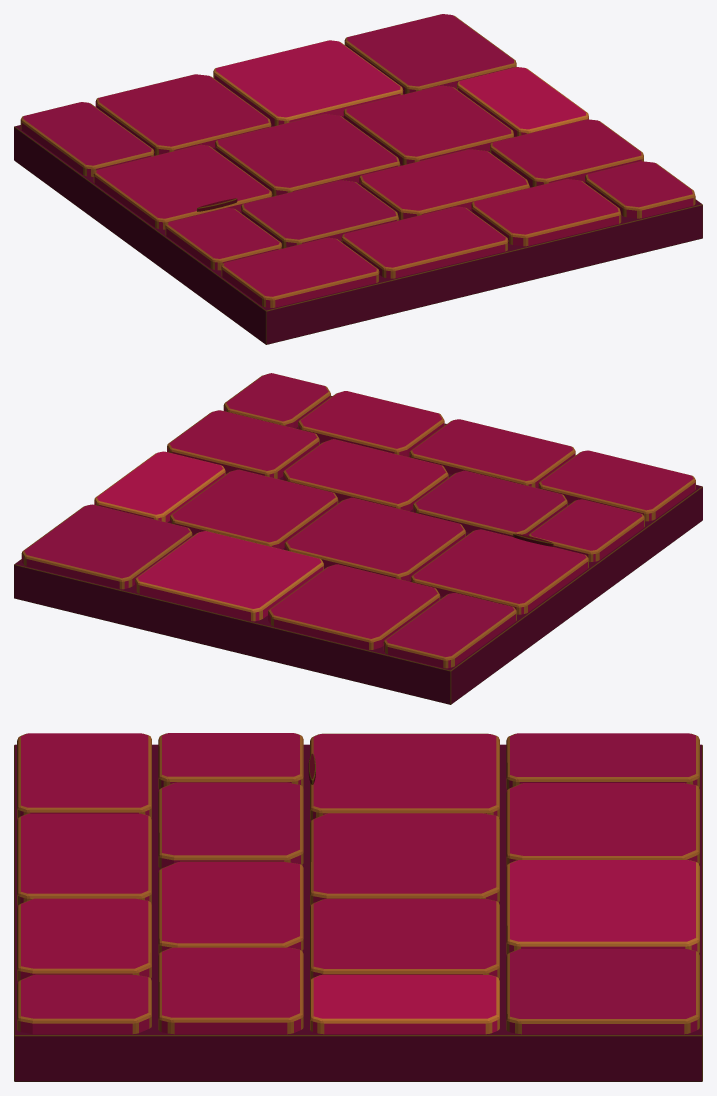
Rendered from SM_RV_TileB.fbx.
3 views of the same model, one above another, from view 1: azimuth 30°, elevation 25°; view 2: azimuth 150°, elevation 25°; view 3: azimuth 270°, elevation 25° (orthographic). The views are drawn at different scales.
Visible parts, largest first — view 1: SM_RV_TileB; view 2: SM_RV_TileB; view 3: SM_RV_TileB.
Boxes of the visible parts, x1,y1,x2,y2 form: SM_RV_TileB: (14, 14, 702, 344); SM_RV_TileB: (14, 373, 702, 704); SM_RV_TileB: (14, 733, 702, 1081).
Size of what is drawn, in the model's own units: 200 by 200 by 20.8.
